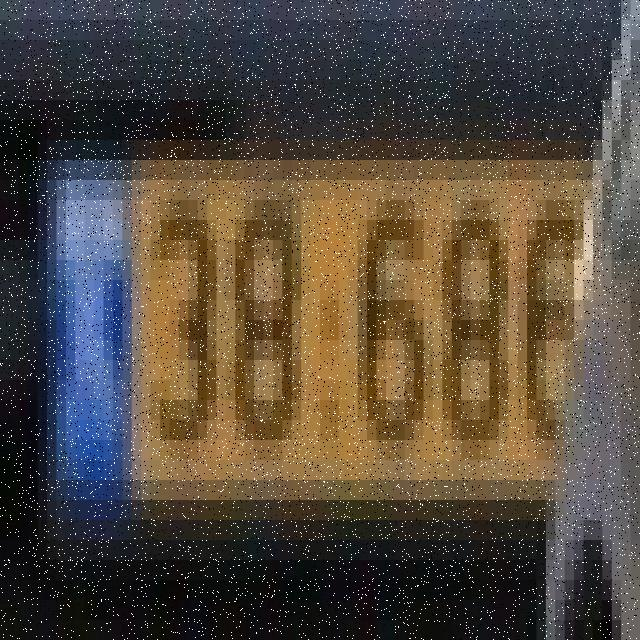licenseplate: (14, 58, 618, 594)
